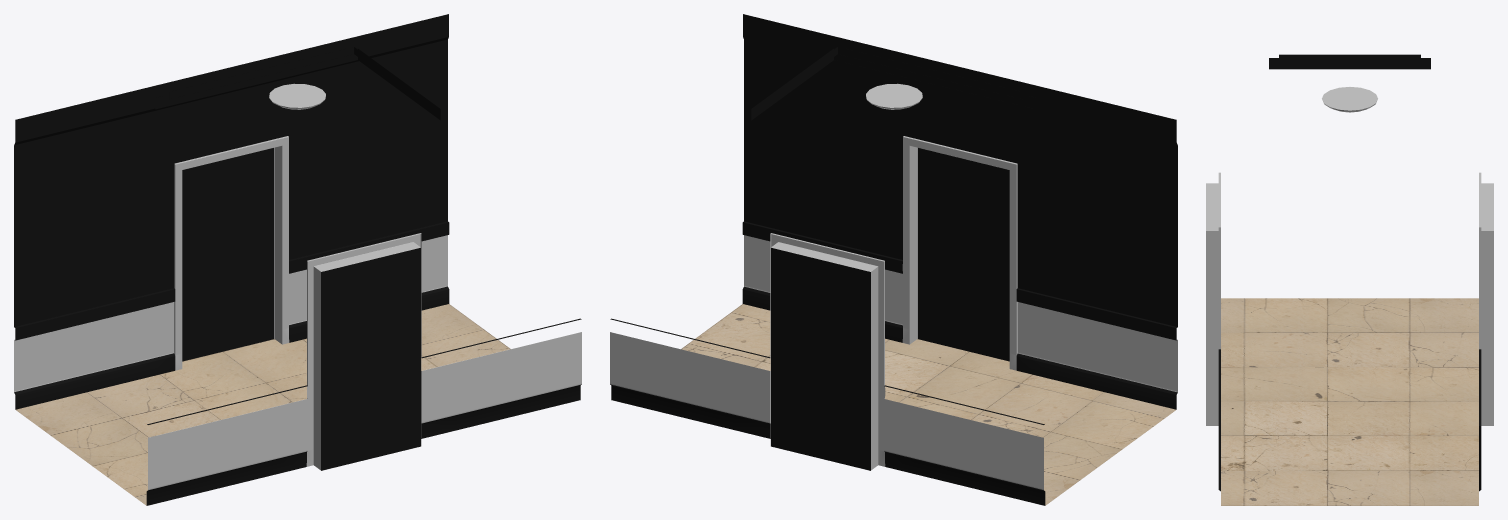
Rendered from hallway2.obj.
The picture shows the model from 3 angles, left to right: view 1: azimuth 30°, elevation 25°; view 2: azimuth 150°, elevation 25°; view 3: azimuth 270°, elevation 25°; orthographic projection.
Parts seen in each view (by area): view 1: Cube.036, Cube.084, Cube.086, Cylinder.005; view 2: Cube.036, Cube.084, Cube.086, Cylinder.005; view 3: Cube.086, Cube.036, Cylinder.005.
Part boxes in pixels (x1,y1,x2,y2): Cube.036: [14, 14, 581, 505]; Cube.084: [182, 148, 420, 470]; Cube.086: [15, 304, 510, 505]; Cylinder.005: [269, 83, 325, 109]; Cube.036: [610, 14, 1177, 505]; Cube.084: [771, 148, 1009, 470]; Cube.086: [681, 304, 1176, 505]; Cylinder.005: [866, 83, 922, 109]; Cube.086: [1221, 298, 1478, 505]; Cube.036: [1206, 54, 1493, 491]; Cylinder.005: [1322, 87, 1377, 112].
Bounding box in the file's own units: 4.64 × 3.16 × 2.72.
